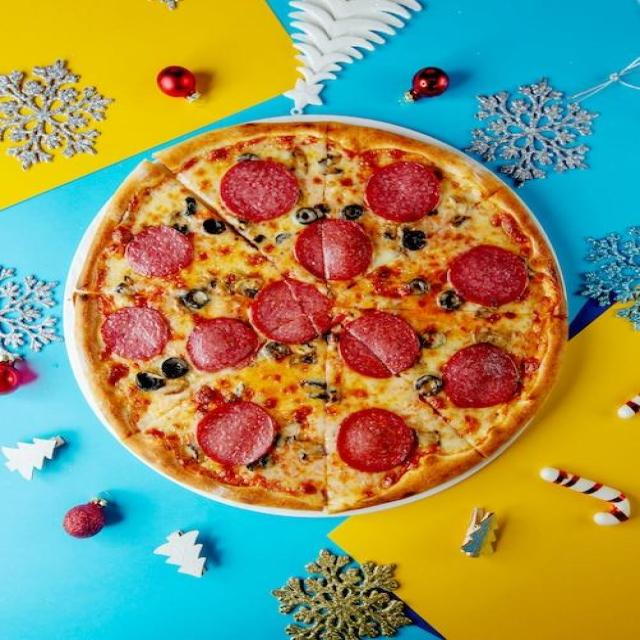olive: (299, 378, 342, 402), (265, 342, 293, 364), (136, 372, 166, 391), (416, 376, 444, 396), (439, 290, 465, 311), (183, 289, 210, 309), (162, 358, 189, 378), (420, 328, 447, 348), (402, 230, 427, 250), (297, 208, 325, 224), (203, 217, 225, 235), (410, 278, 428, 296), (342, 204, 362, 220), (322, 329, 339, 344), (186, 197, 197, 216), (172, 223, 188, 235), (276, 233, 293, 244), (245, 288, 259, 299), (253, 233, 267, 244)
pepperoni: (340, 313, 422, 379), (252, 277, 332, 344), (338, 406, 414, 474), (446, 243, 528, 306), (442, 343, 521, 408), (198, 401, 274, 465), (295, 218, 373, 280), (222, 160, 300, 221), (366, 161, 442, 222), (186, 318, 258, 372), (101, 308, 169, 360), (125, 227, 193, 277)
pizza: (66, 114, 566, 517)
